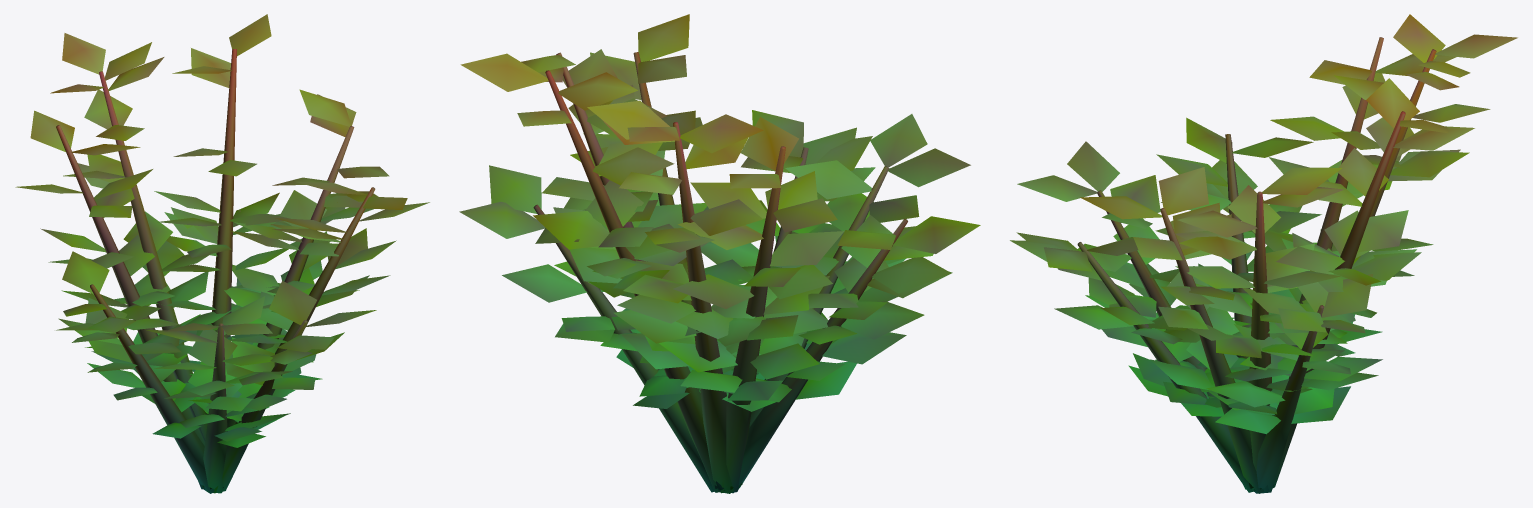
The model's file is Shrub_A.fbx.
3 renders of one model, left to right at view 1: azimuth 30°, elevation 25°; view 2: azimuth 150°, elevation 25°; view 3: azimuth 270°, elevation 25°, orthographic. The views are drawn at different scales.
Visible parts, largest first — view 1: Shrub_A; view 2: Shrub_A; view 3: Shrub_A.
Part boxes in pixels (x1,y1,x2,y2): Shrub_A: [15, 14, 429, 493]; Shrub_A: [459, 14, 980, 493]; Shrub_A: [1010, 14, 1517, 493].
Bounding box in the file's own units: 0.5521 × 0.5505 × 0.5881.
